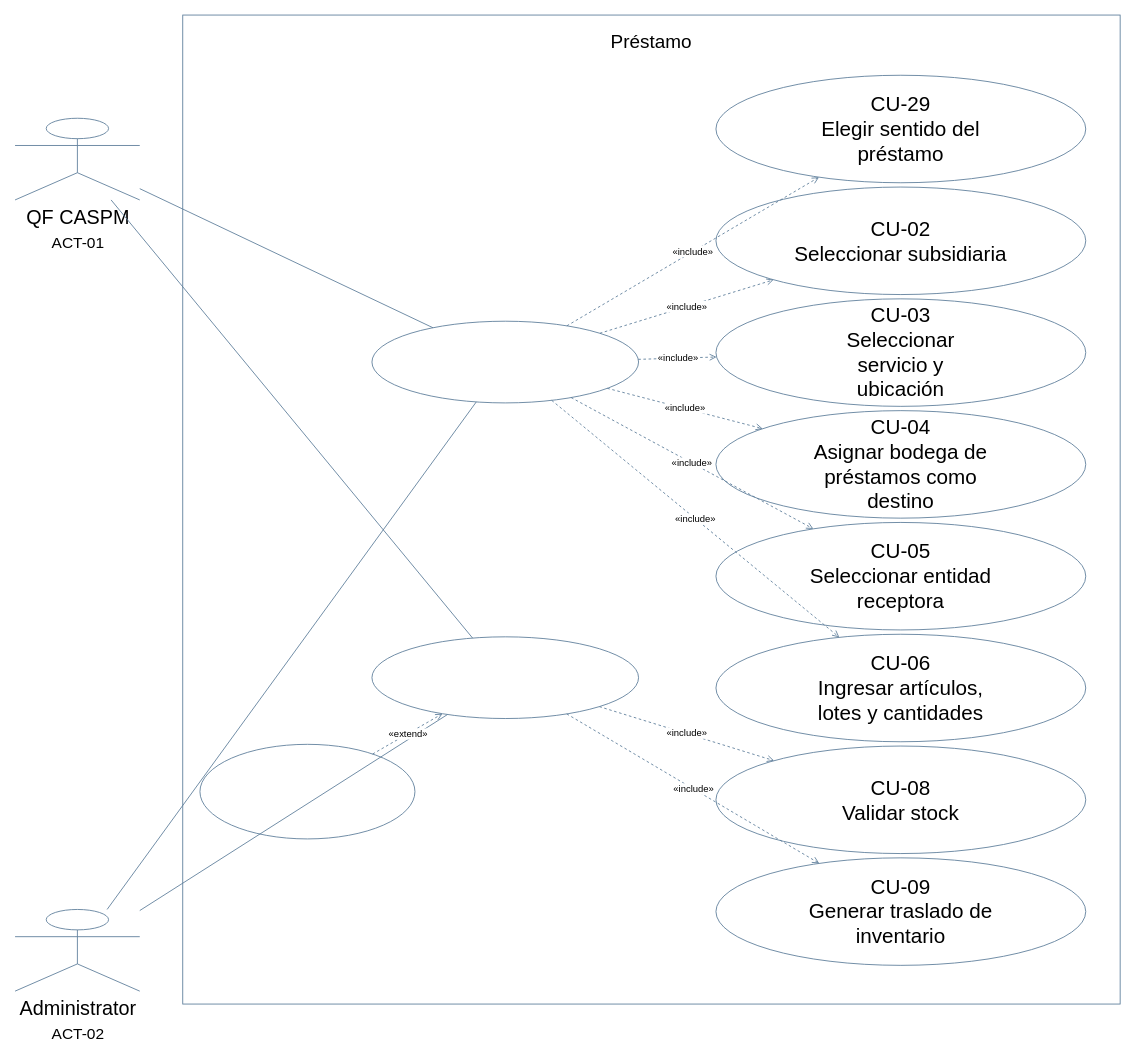
Image size: 1135x1060. Some labels were removed from this diagram. The shapes that lost their labels are listed below. From the top down, each one's centre as x and y in pixels, then its label:
At (x=505, y=361): "CU-01 Registrar préstamo".
At (x=505, y=677): "CU-07 Procesar préstamo".
At (x=307, y=791): "CU-30 Generar ajuste de entrada".
